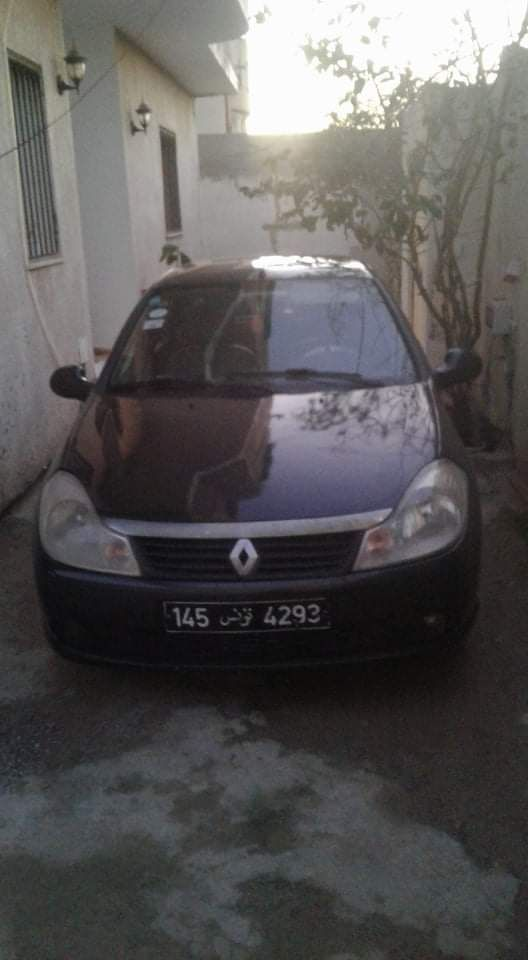LP: (160, 596, 331, 635)
